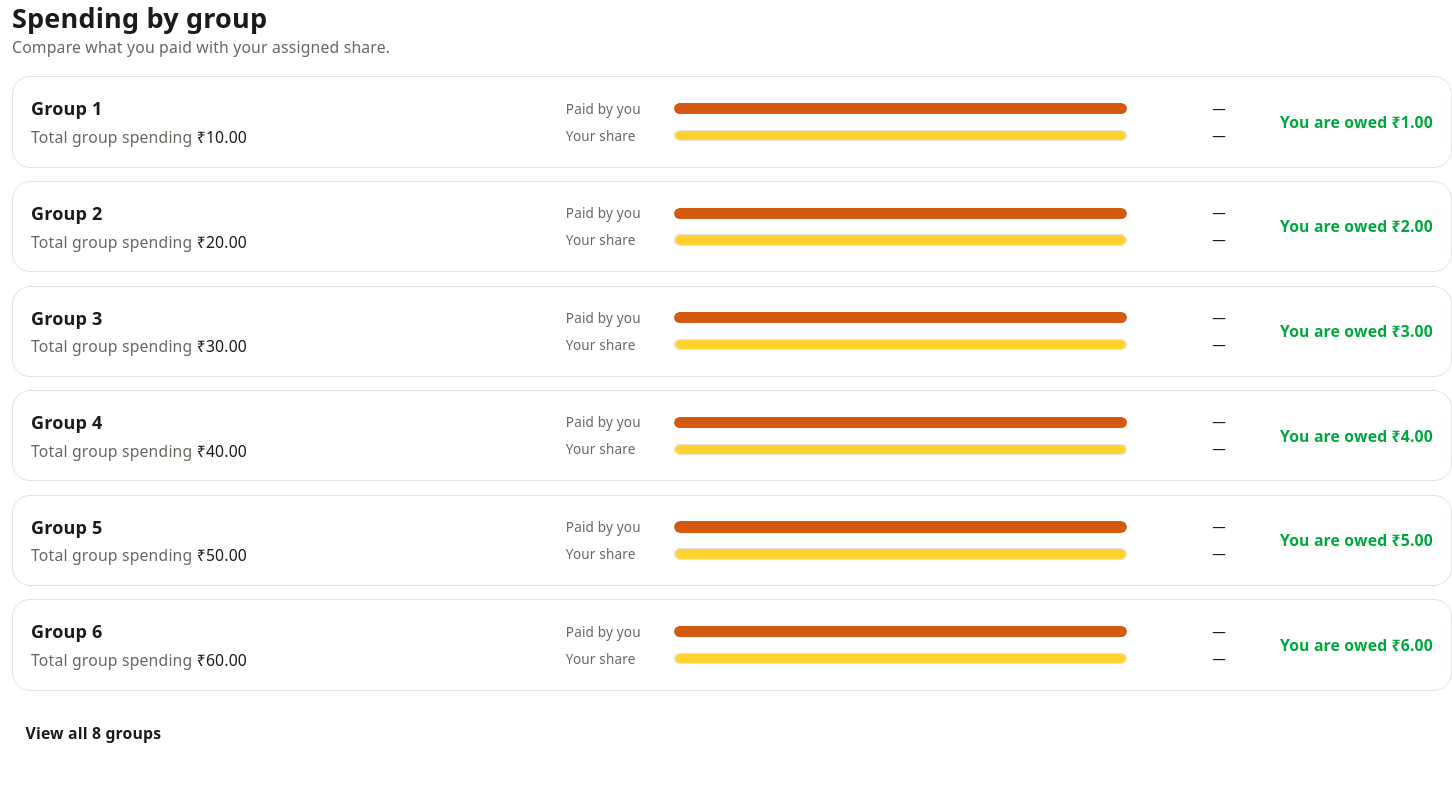
it: GroupBreakdown › limits large collections and toggles all groups
The width and height of the screenshot is (1452, 810).
Check: the number of links is 6, box 12,76 -> 1451,168; 12,181 -> 1451,272; 12,286 -> 1451,377; 12,390 -> 1451,481; 12,495 -> 1451,586; 12,600 -> 1451,691
Step 1. Click the button "View all 8 groups" → coordinates (93, 733), box 12,708 -> 175,758
(page scrolled)
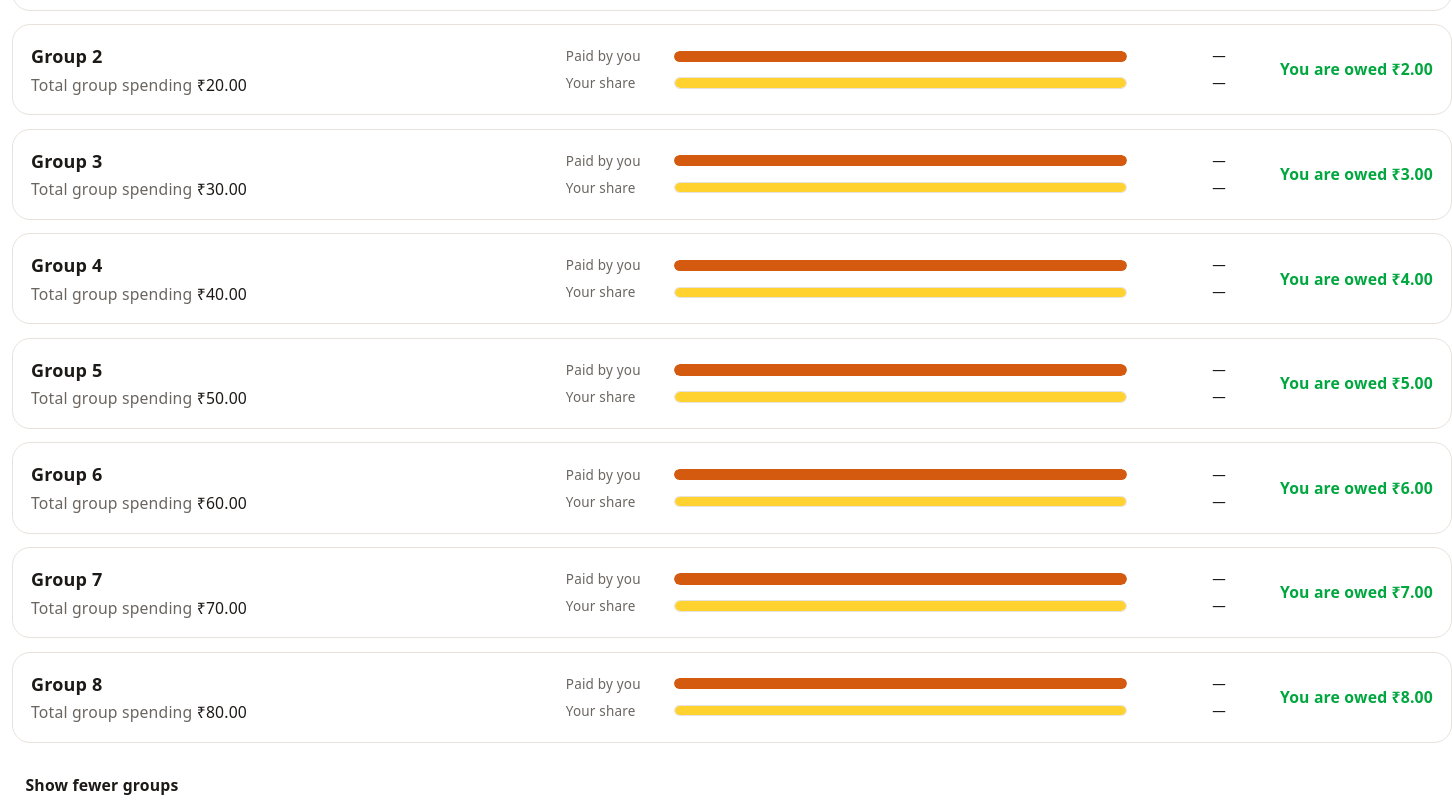
Check: the number of links is 8
Step 2. Click the button "Show fewer groups" → coordinates (102, 785), box 12,761 -> 192,809
(page scrolled)
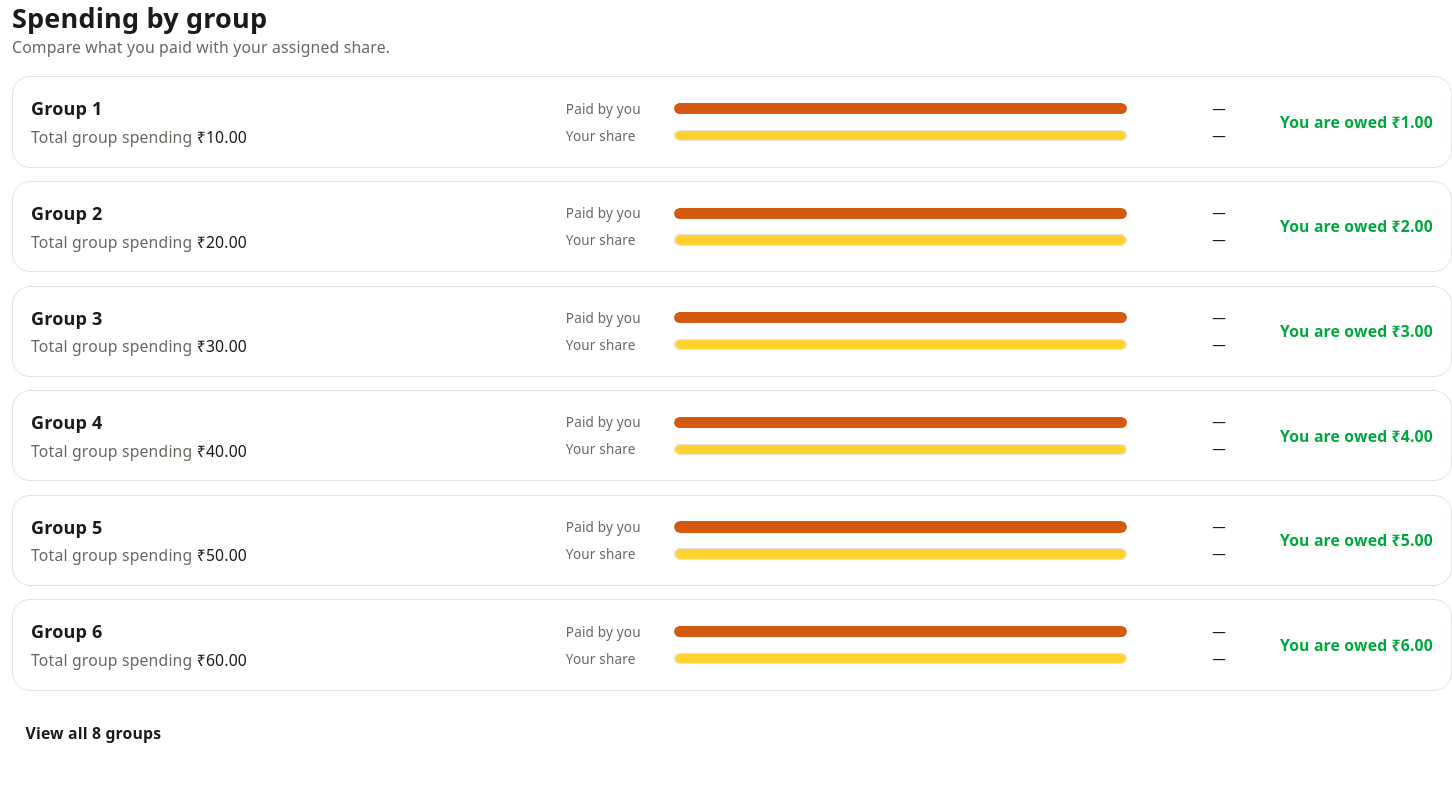
Check: the number of links is 6, box 12,76 -> 1451,168; 12,181 -> 1451,272; 12,286 -> 1451,377; 12,390 -> 1451,481; 12,495 -> 1451,586; 12,600 -> 1451,691
